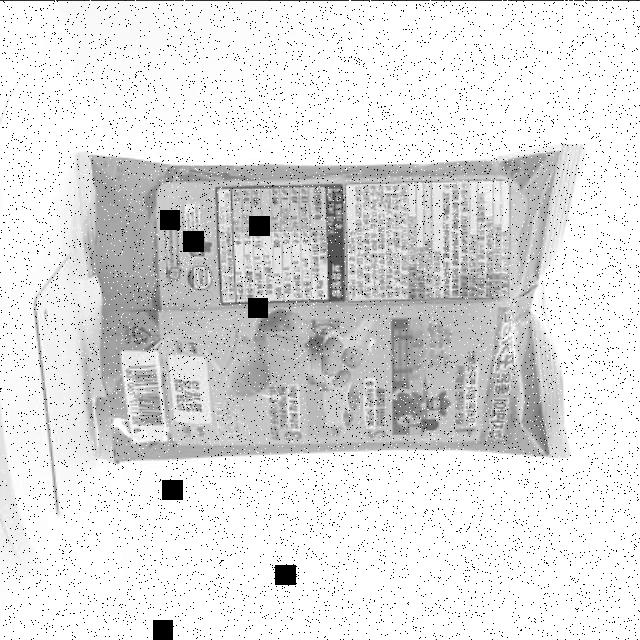snack_bag: (60, 91, 604, 486)
